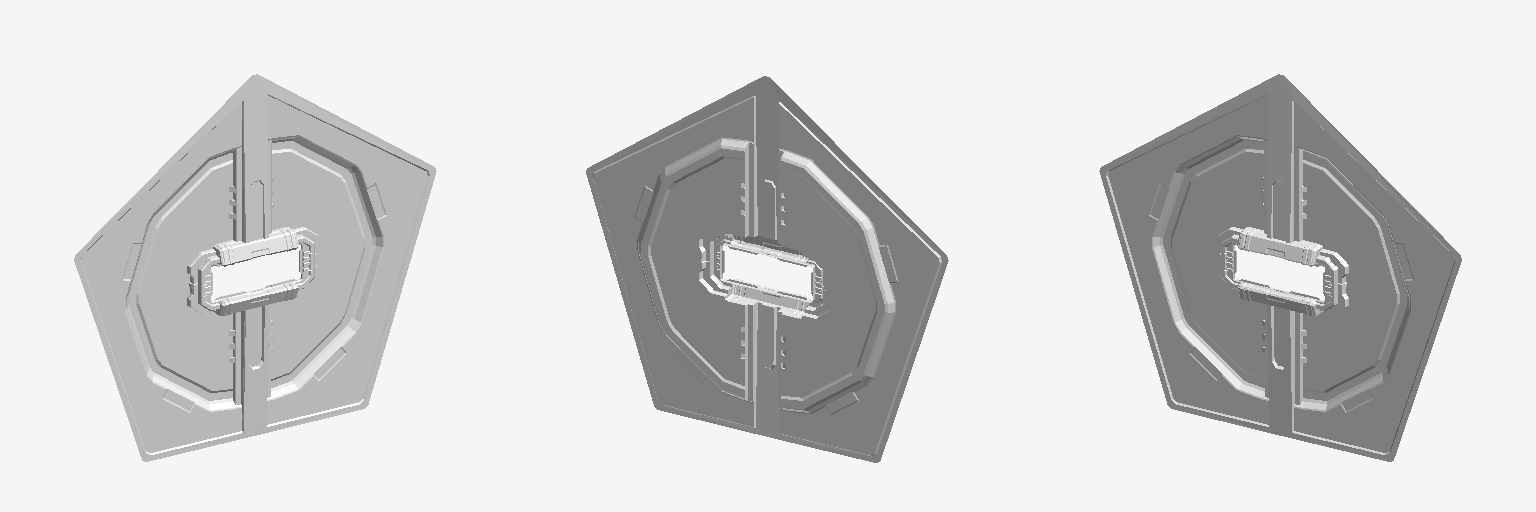
Rendered from oolite_dodo_faceplate.obj.
The picture shows the model from 3 angles: view 1: azimuth 30°, elevation 25°; view 2: azimuth 150°, elevation 25°; view 3: azimuth 330°, elevation 25°; orthographic projection.
Visible parts, largest first — view 1: faceplate_welded.obj; view 2: faceplate_welded.obj; view 3: faceplate_welded.obj.
Boxes of the visible parts, box(x1,y1,x2,y2) form: faceplate_welded.obj: box(74, 74, 436, 461); faceplate_welded.obj: box(586, 76, 948, 462); faceplate_welded.obj: box(1099, 74, 1461, 461).
Size of the model in its own units: 808 by 768 by 41.01.